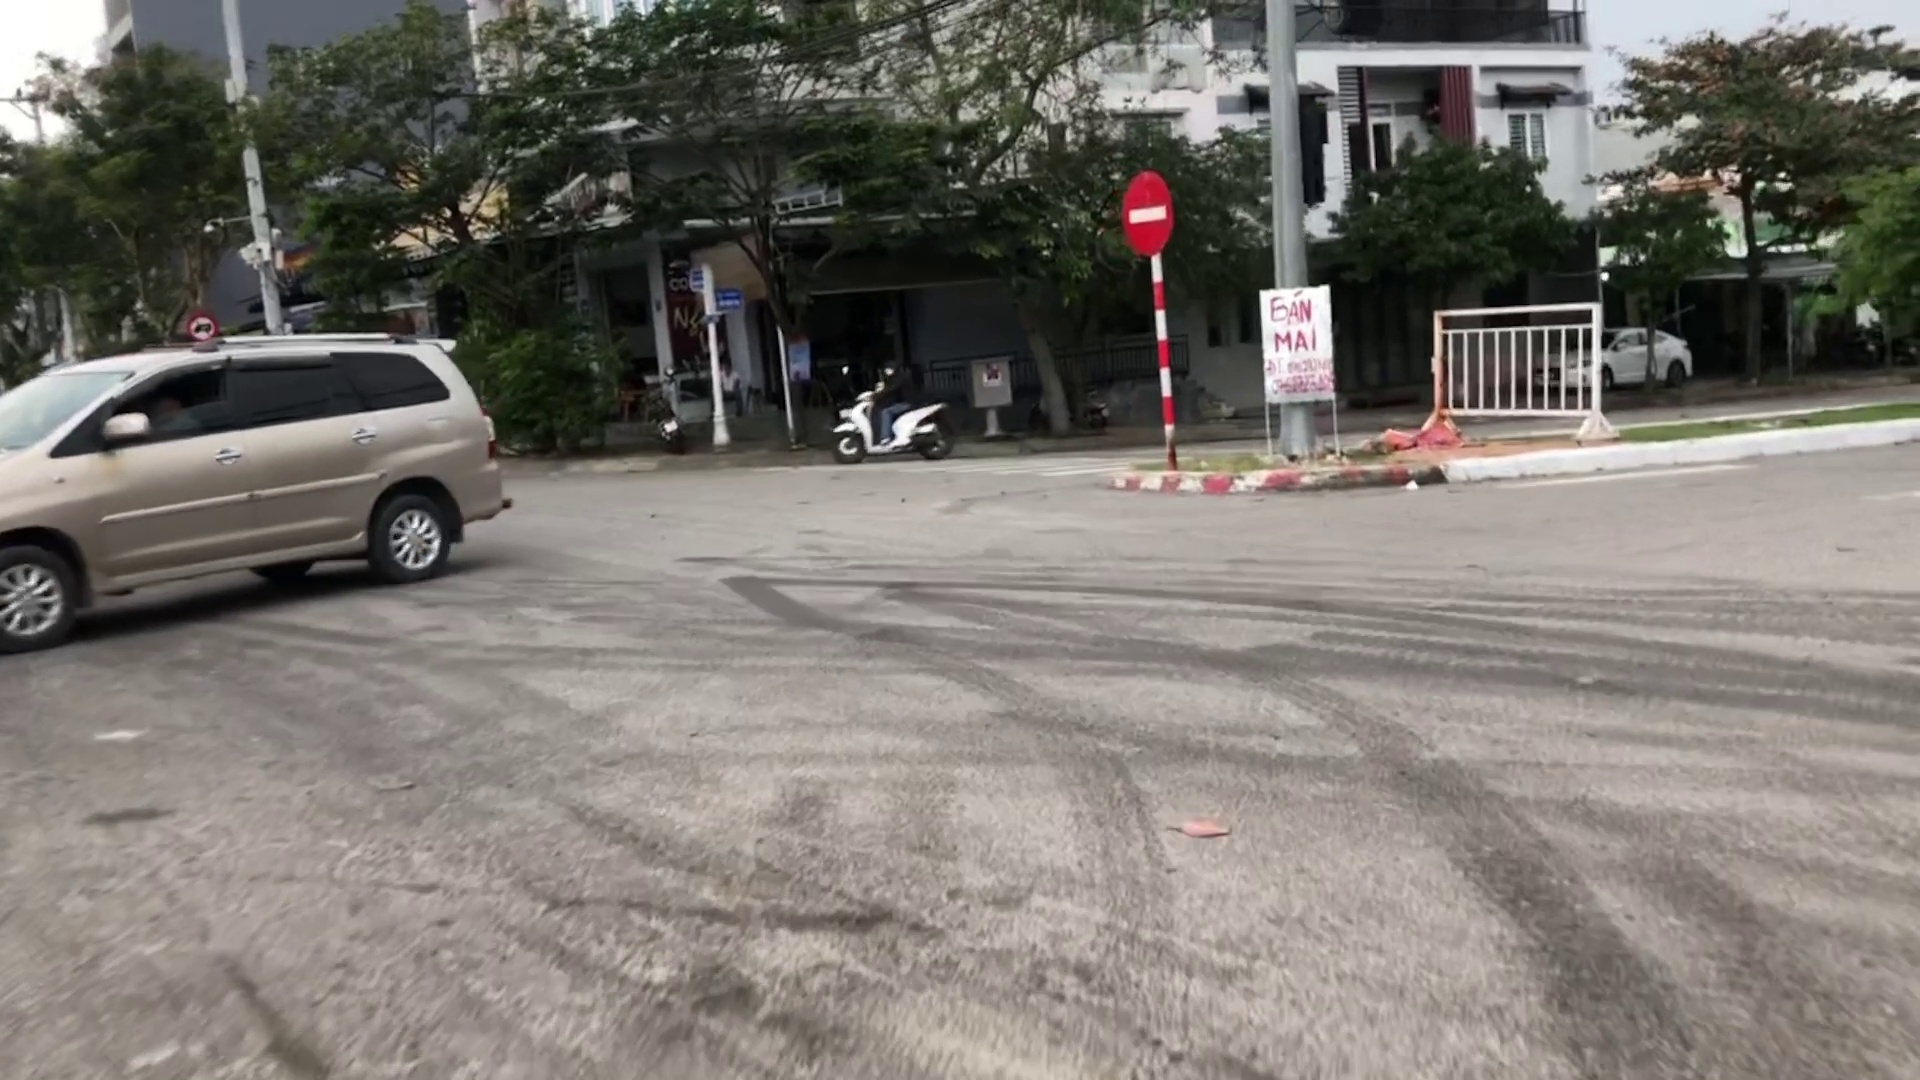Cam di nguoc chieu: (1124, 169, 1174, 257)
